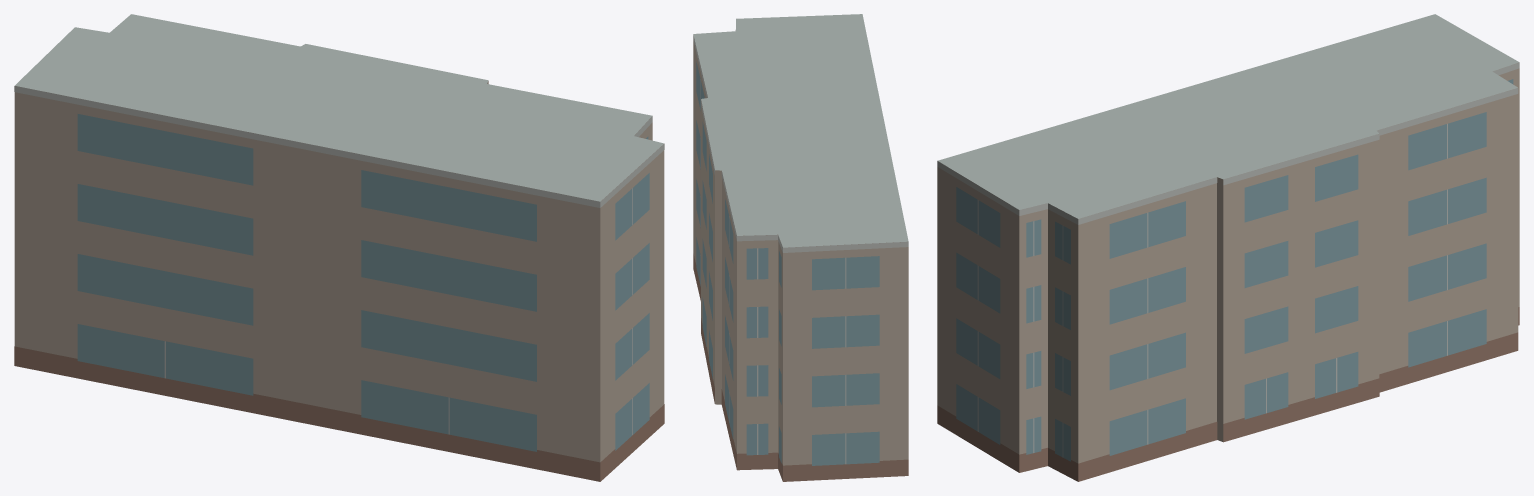
File: survey-upis-32805305.glb
The picture shows the model from 3 angles, left to right: view 1: azimuth 30°, elevation 25°; view 2: azimuth 150°, elevation 25°; view 3: azimuth 270°, elevation 25°; orthographic projection. The views are drawn at different scales.
Visible parts, largest first — view 1: survey-upis-32805305.tmp; view 2: survey-upis-32805305.tmp; view 3: survey-upis-32805305.tmp.
Part boxes in pixels (<box>): survey-upis-32805305.tmp: <box>14,14,664,481</box>; survey-upis-32805305.tmp: <box>693,14,908,481</box>; survey-upis-32805305.tmp: <box>937,14,1519,481</box>.
Bounding box in the file's own units: 17.91 × 10.7 × 21.48.
